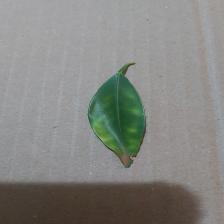greening: (76, 58, 168, 174)
